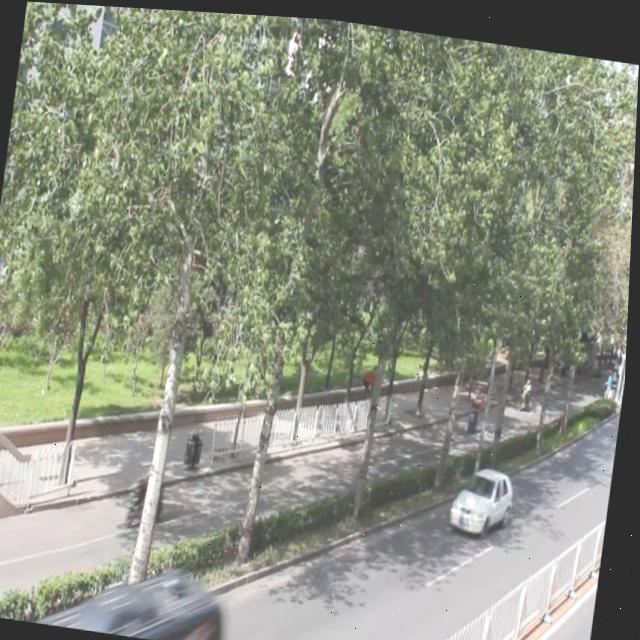car: (450, 455, 518, 531)
truck: (23, 553, 234, 640)
